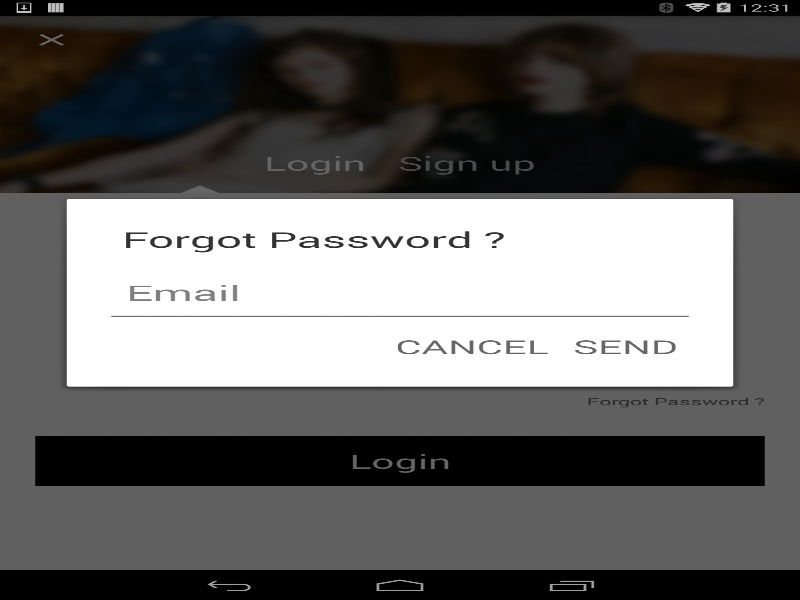Input: (111, 278, 688, 317)
